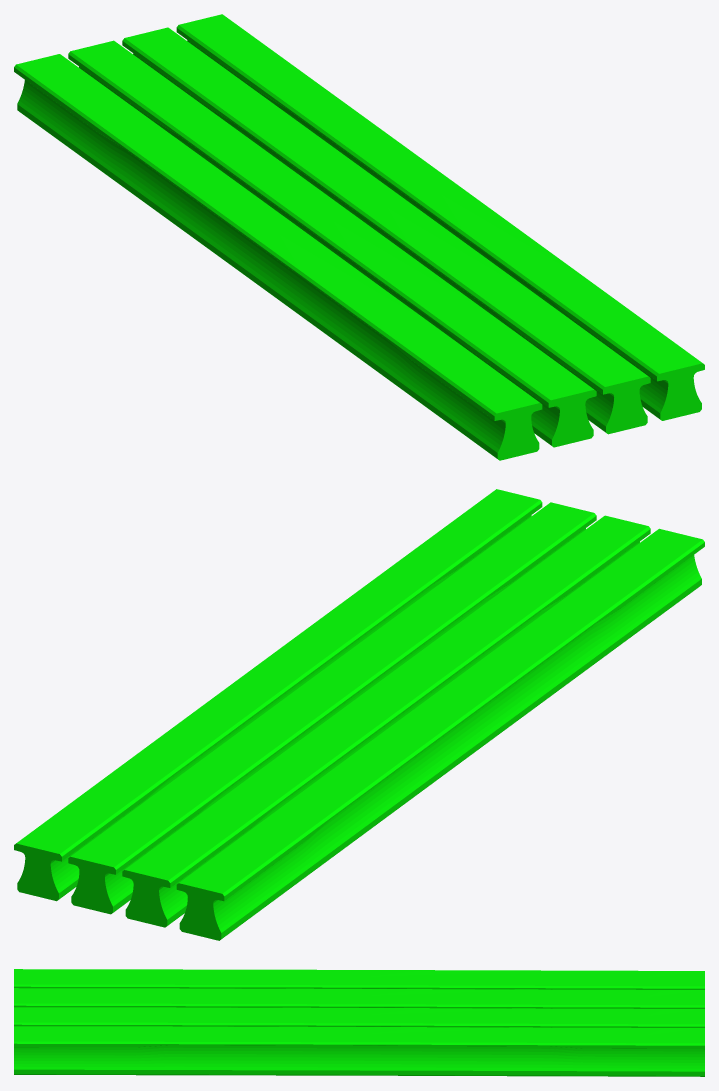
File: girder.glb
The picture shows the model from 3 angles, top to bottom: view 1: azimuth 30°, elevation 25°; view 2: azimuth 150°, elevation 25°; view 3: azimuth 270°, elevation 25°; orthographic projection. The views are drawn at different scales.
Visible parts, largest first — view 1: m0; view 2: m0; view 3: m0.
Boxes of the visible parts, bbox=[...] form: m0: bbox=[14, 14, 704, 460]; m0: bbox=[14, 489, 704, 940]; m0: bbox=[14, 969, 704, 1076].
Bounding box in the file's own units: 30785 × 7080 × 121750.
